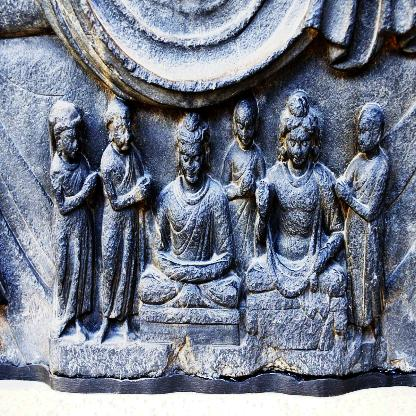buddha-sitting: (245, 90, 348, 351), (138, 112, 241, 344)
